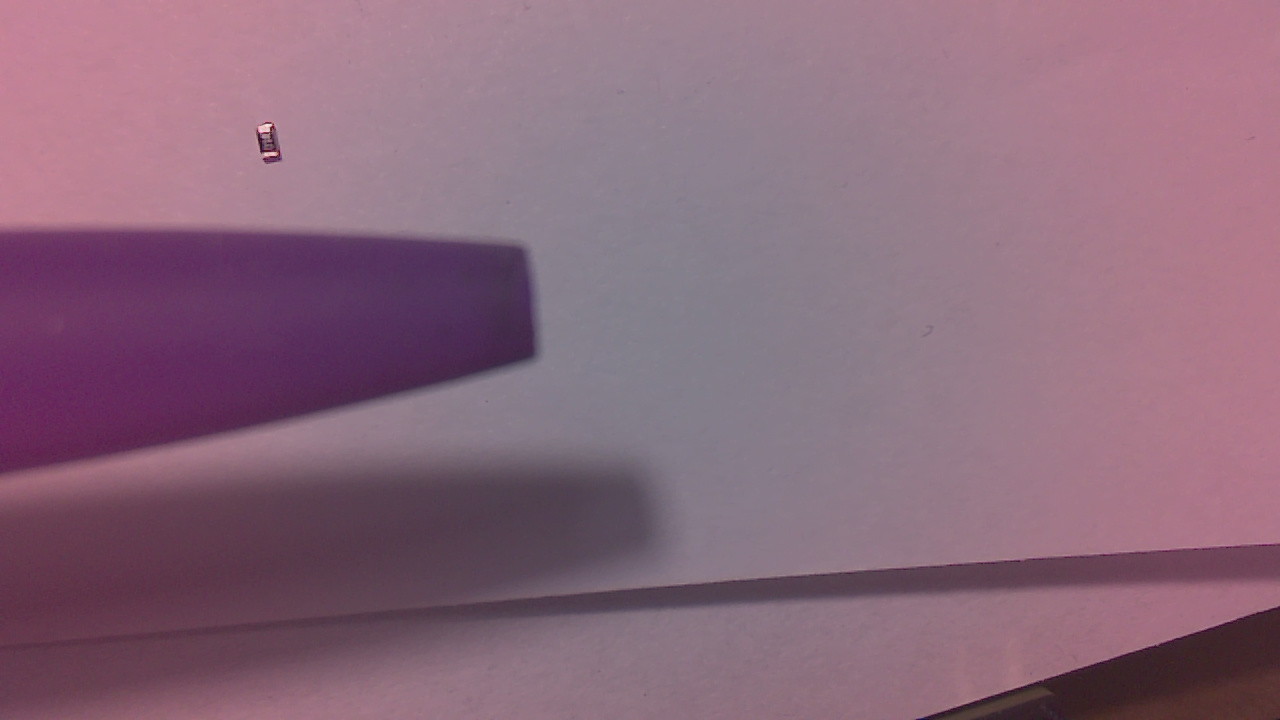Resistor: (258, 125, 290, 170)
